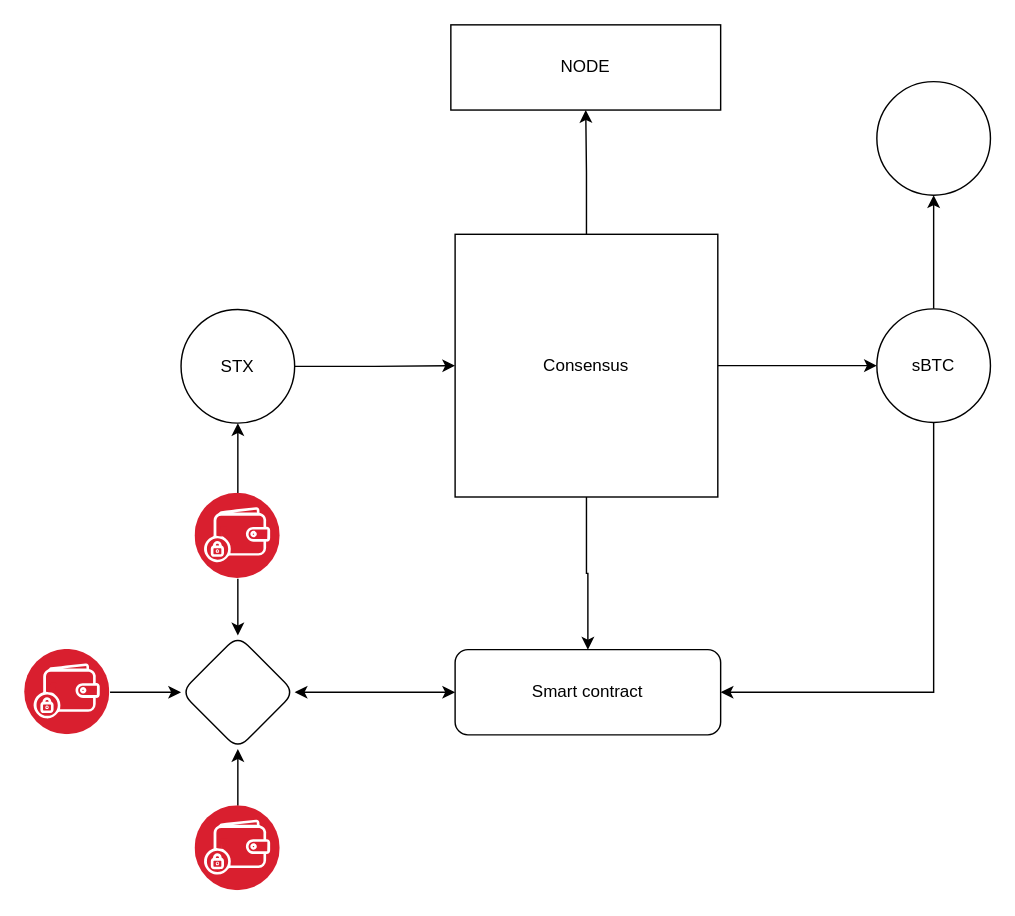
The diagram is 1015 pixels wide and 916 high, and some of its shapes have lost their labels. The shapes that lost their labels are listed below. From the top down, each one's centre as x and y in pixels, then its label:
At pixel 932 137: "BTC".
At pixel 237 691: "MULTISIG".
